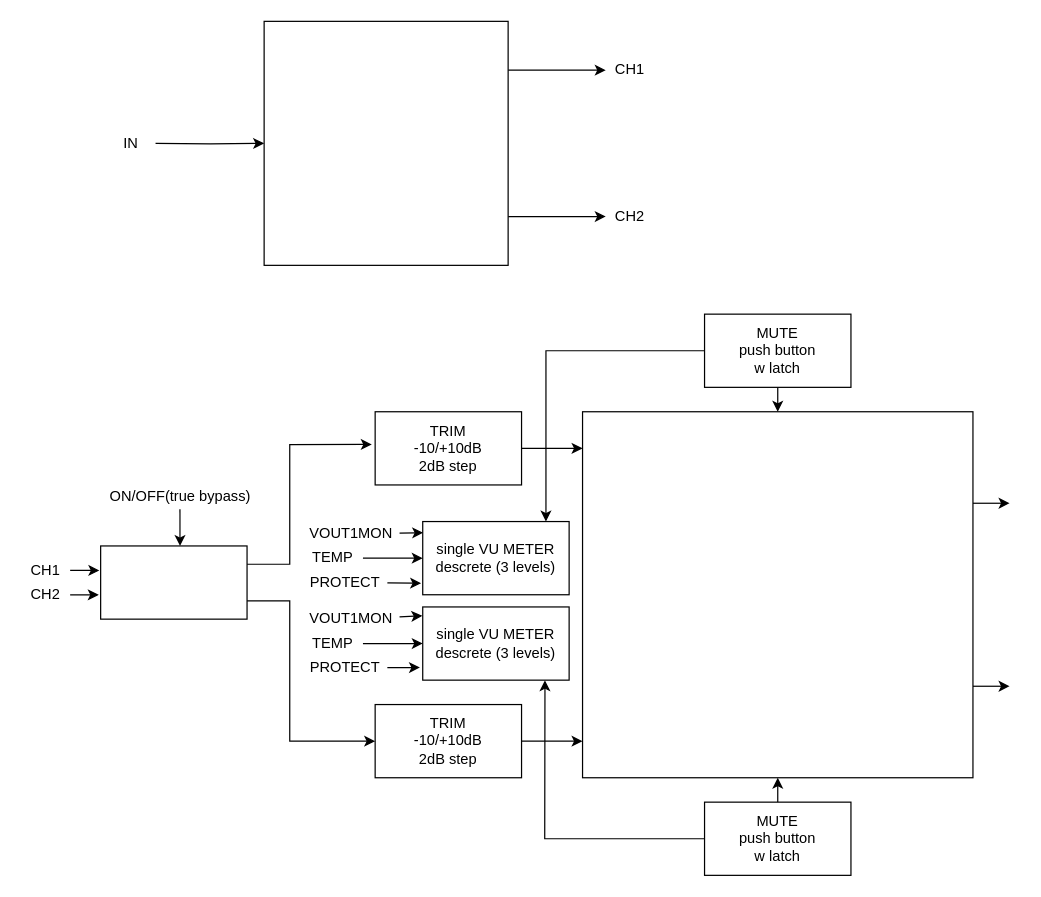
This 1041x897 diagram has some shape labels left out. Here are the shapes that lost their labels. From the top down, the box of each, then its label:
(263, 20, 508, 265): DSP
(99, 545, 247, 619): HP filter 2nd order fixed Q = 3 rotary switch 3p3t
(581, 411, 973, 778): AMP
